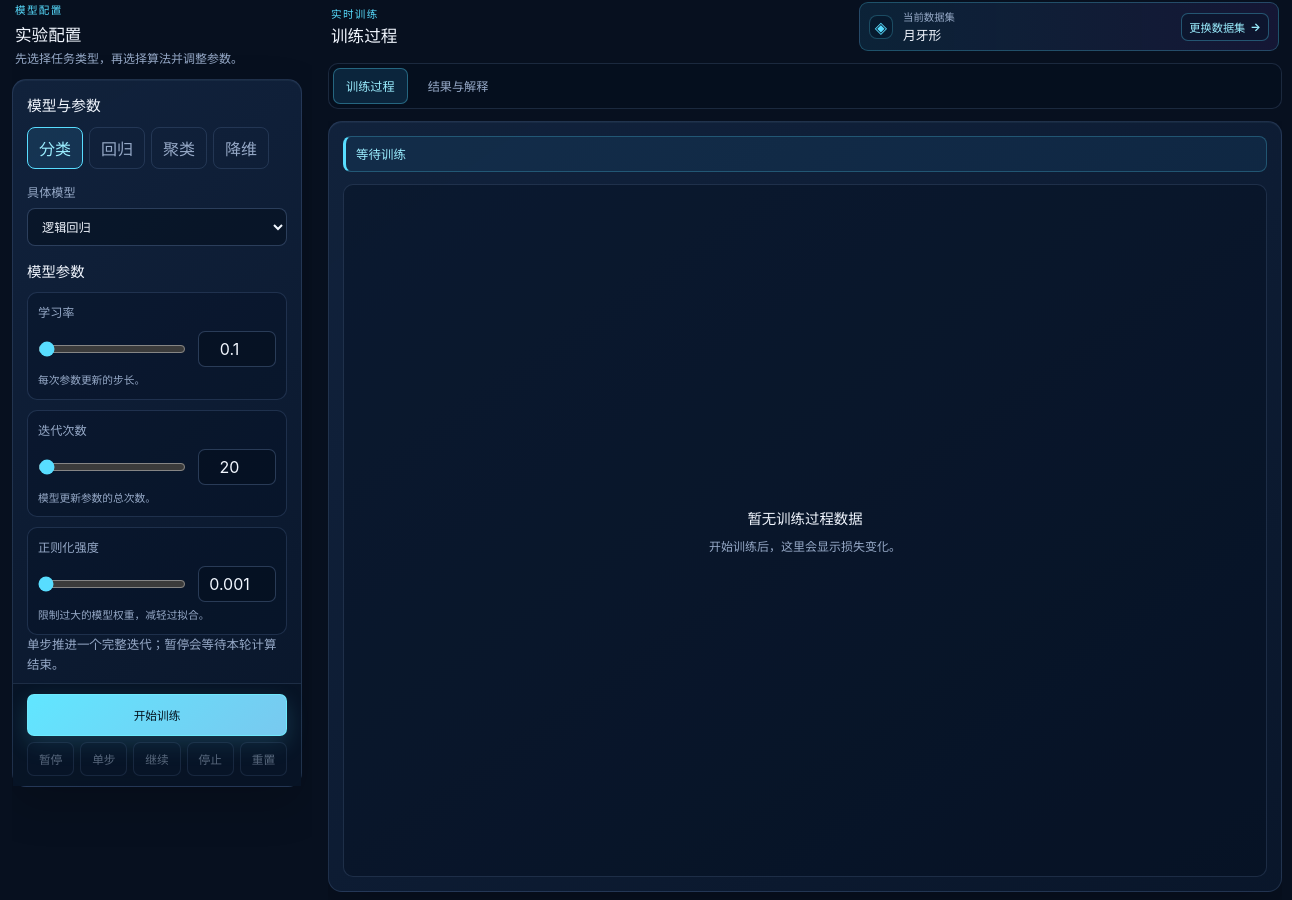
Test: 单页训练工作台 › 将解释与结果放在画布页签，并使用两栏主布局
Check: the element "实验配置" is shown, box x1=12 y1=0 x2=312 y2=899
Check: the element "模型解释与结果" is not shown
Click the tab "结果与解释".
click(458, 86)  # box x1=415 y1=68 x2=501 y2=104
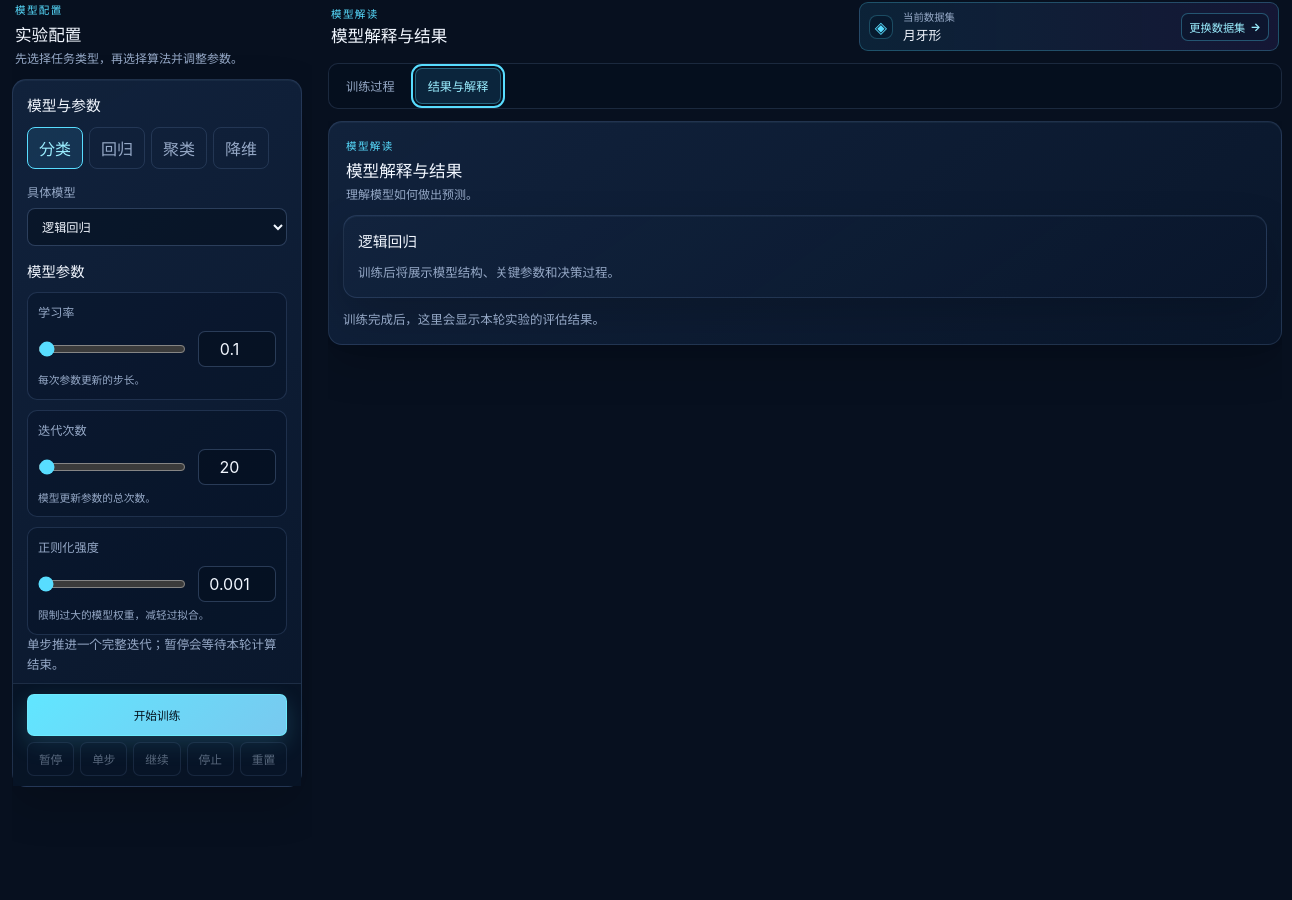
Check: the heading "模型解释与结果" in the row of "月牙形" is shown, box x1=331 y1=26 x2=447 y2=46
Check: the element "模型解释与结果" shows "训练后将展示模型结构、关键参数和决策过程。", box x1=358 y1=265 x2=620 y2=280
